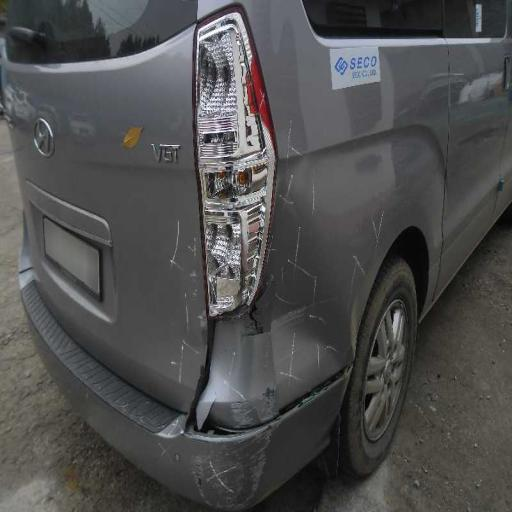dent: (148, 209, 268, 494)
scratch: (173, 180, 391, 354)
